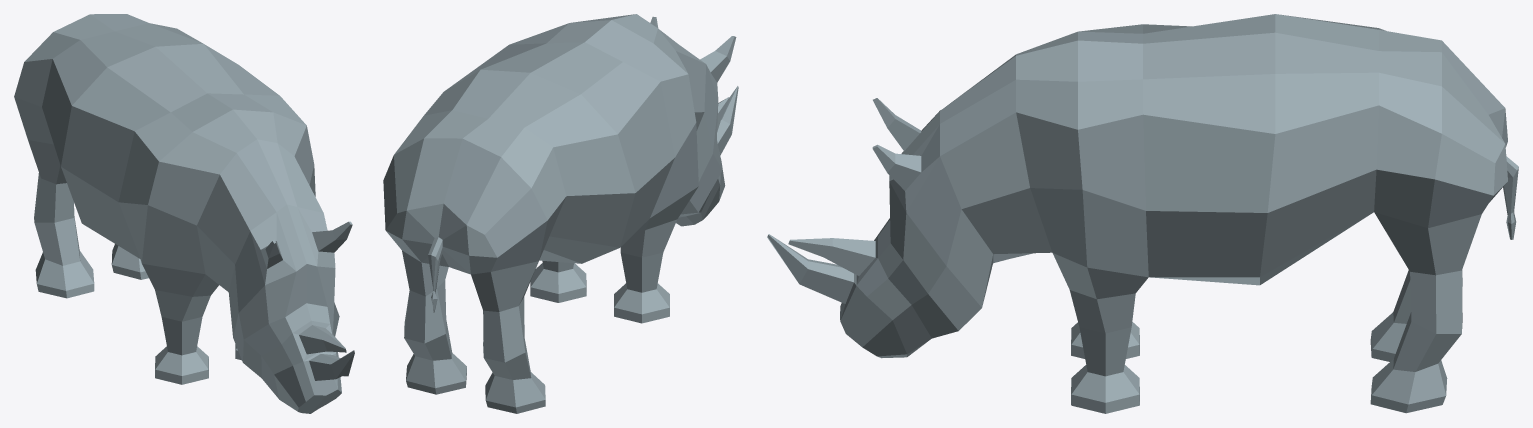
File: Nashorn1.fbx
The picture shows the model from 3 angles, left to right: view 1: azimuth 30°, elevation 25°; view 2: azimuth 150°, elevation 25°; view 3: azimuth 270°, elevation 25°; orthographic projection. The views are drawn at different scales.
Parts seen in each view (by area): view 1: Nashorn; view 2: Nashorn; view 3: Nashorn.
Part boxes in pixels (box(x1,y1,x2,y2)): Nashorn: box(14, 14, 354, 413); Nashorn: box(383, 14, 738, 413); Nashorn: box(767, 14, 1518, 413).
Bounding box in the file's own units: 1.76 × 2.3 × 4.61.
